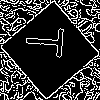T: (25, 25, 73, 59)
